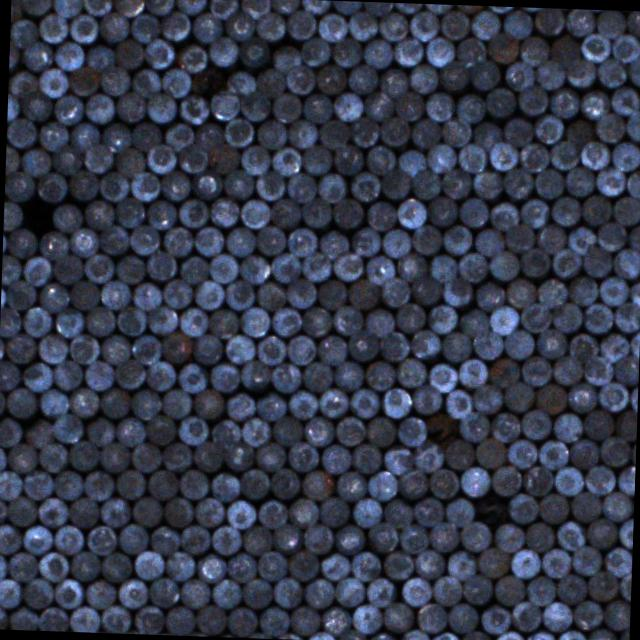tool: (557, 106, 603, 152), (18, 38, 54, 72), (548, 30, 582, 66), (299, 468, 335, 501), (81, 576, 118, 608), (68, 548, 102, 582), (116, 520, 150, 554), (207, 468, 241, 502), (4, 385, 38, 419), (346, 276, 380, 310), (226, 603, 260, 636), (132, 548, 165, 582), (319, 548, 352, 582), (332, 521, 366, 554), (319, 494, 352, 528), (82, 468, 115, 502), (506, 490, 539, 524), (470, 328, 504, 361), (83, 304, 116, 338), (284, 225, 318, 258), (239, 196, 272, 230), (363, 575, 398, 607), (491, 572, 526, 604), (144, 467, 179, 499), (129, 439, 161, 474), (362, 253, 397, 285), (362, 198, 397, 230), (252, 168, 287, 200), (165, 550, 198, 583), (253, 440, 286, 473), (349, 441, 382, 474), (254, 388, 287, 421), (458, 465, 491, 498), (393, 300, 426, 333), (144, 197, 177, 230), (415, 600, 447, 634), (100, 550, 132, 584), (286, 548, 320, 580), (84, 524, 118, 556), (179, 522, 211, 556), (365, 521, 399, 553), (35, 494, 67, 528), (64, 496, 98, 528), (98, 494, 130, 528), (130, 494, 162, 528), (223, 497, 257, 529), (380, 496, 414, 528), (366, 468, 398, 502), (96, 440, 130, 472), (286, 440, 320, 472), (380, 444, 414, 476), (68, 384, 100, 418), (98, 384, 130, 418), (130, 386, 162, 420), (190, 387, 224, 419), (445, 546, 477, 580), (584, 517, 618, 549), (520, 464, 554, 496), (146, 304, 180, 336), (178, 304, 210, 338), (268, 304, 302, 336), (240, 250, 272, 284), (396, 250, 430, 282), (330, 198, 364, 230), (395, 196, 427, 230), (222, 166, 254, 200), (82, 140, 114, 174), (238, 144, 272, 176), (582, 300, 614, 334), (472, 278, 506, 310), (518, 246, 550, 280), (486, 200, 520, 232), (548, 194, 582, 226), (52, 38, 84, 72), (174, 41, 208, 73), (190, 10, 224, 42), (486, 30, 518, 64), (254, 118, 289, 149), (316, 228, 352, 258), (192, 496, 225, 528), (256, 497, 288, 530), (335, 469, 367, 502), (160, 440, 193, 472), (222, 439, 254, 472), (318, 442, 351, 474), (82, 414, 115, 446), (82, 359, 115, 391), (176, 360, 209, 392), (36, 331, 69, 363), (97, 332, 130, 364), (346, 328, 378, 361), (458, 520, 491, 552), (537, 492, 570, 524), (411, 383, 444, 415), (361, 306, 394, 338), (223, 277, 255, 310), (222, 224, 255, 256), (208, 194, 240, 227), (35, 171, 68, 203), (159, 169, 191, 202), (190, 168, 223, 200), (379, 168, 412, 200), (143, 142, 176, 174), (21, 89, 54, 121), (82, 92, 115, 124), (377, 64, 410, 96), (458, 305, 490, 338), (550, 246, 583, 278), (456, 195, 488, 228), (533, 166, 566, 198), (143, 37, 175, 70), (237, 35, 270, 67), (361, 36, 394, 68), (424, 34, 456, 67), (408, 9, 440, 42), (502, 7, 535, 39), (586, 569, 620, 600), (146, 524, 180, 555), (270, 414, 304, 445), (413, 440, 444, 474), (96, 11, 130, 42), (18, 360, 53, 390), (329, 250, 364, 280), (564, 332, 600, 361), (258, 603, 290, 635), (22, 576, 54, 608), (240, 576, 272, 608), (302, 576, 334, 608), (399, 574, 431, 606), (509, 599, 541, 631), (430, 574, 462, 606), (554, 572, 586, 604), (36, 550, 68, 582), (196, 552, 228, 584), (382, 549, 414, 581), (21, 524, 53, 556), (210, 524, 242, 556), (240, 523, 272, 555), (302, 523, 334, 555), (162, 496, 194, 528), (288, 496, 320, 528), (21, 469, 53, 501), (52, 468, 84, 500), (114, 468, 146, 500), (178, 466, 210, 498), (66, 439, 98, 471), (22, 416, 54, 448), (144, 414, 176, 446), (209, 416, 241, 448), (303, 414, 335, 446), (364, 415, 396, 447), (224, 389, 256, 421), (286, 388, 318, 420), (317, 386, 349, 418), (380, 386, 412, 418), (270, 362, 302, 394), (363, 358, 395, 390), (130, 332, 162, 364), (477, 546, 509, 578), (428, 520, 460, 552), (524, 520, 556, 552), (600, 489, 632, 521), (443, 438, 475, 470), (474, 436, 506, 468), (536, 438, 568, 470), (598, 434, 630, 466), (458, 410, 490, 442), (534, 381, 566, 413), (520, 354, 552, 386), (238, 304, 270, 336), (330, 303, 362, 335), (161, 276, 193, 308), (254, 278, 286, 310), (271, 251, 303, 283), (162, 224, 194, 256), (350, 224, 382, 256), (112, 196, 144, 228), (176, 196, 208, 228), (300, 196, 332, 228), (67, 169, 99, 201), (348, 169, 380, 201), (410, 168, 442, 200), (112, 144, 144, 176), (332, 143, 364, 175), (52, 92, 84, 124), (238, 89, 270, 121), (36, 66, 68, 98), (550, 300, 582, 332), (536, 276, 568, 308), (582, 246, 614, 278), (595, 220, 627, 252), (580, 194, 612, 226), (441, 167, 473, 199), (453, 92, 485, 124), (484, 84, 516, 116), (595, 56, 627, 88), (270, 42, 302, 74), (330, 36, 362, 68), (393, 34, 425, 66), (67, 12, 99, 44), (284, 8, 316, 40), (438, 8, 470, 40), (269, 467, 300, 500), (413, 547, 444, 580), (583, 464, 616, 495), (37, 280, 70, 311), (83, 197, 114, 230), (427, 194, 458, 227), (21, 144, 52, 177), (489, 303, 520, 336), (473, 227, 506, 258), (132, 604, 166, 634), (352, 494, 382, 528), (510, 546, 540, 580), (570, 488, 600, 522), (596, 380, 630, 410), (486, 356, 520, 386), (408, 274, 442, 304), (314, 62, 348, 92), (610, 137, 640, 171), (315, 11, 349, 41), (163, 604, 194, 636), (351, 602, 383, 633), (382, 601, 414, 632), (118, 576, 149, 608), (210, 577, 242, 608), (460, 572, 491, 604), (524, 573, 555, 605), (351, 550, 382, 582), (270, 523, 302, 554), (396, 468, 428, 499), (7, 441, 38, 473), (397, 414, 428, 446), (50, 359, 82, 390), (302, 360, 334, 391), (332, 359, 363, 391), (4, 332, 36, 363), (67, 332, 99, 363), (254, 334, 286, 365), (540, 546, 571, 578), (572, 544, 603, 576), (492, 521, 524, 552), (490, 465, 522, 496), (550, 411, 582, 442), (582, 408, 614, 439), (503, 380, 535, 411), (456, 357, 488, 388), (582, 354, 614, 385), (502, 328, 534, 359), (115, 304, 146, 336), (4, 278, 35, 310), (51, 253, 83, 284), (114, 252, 146, 283), (146, 249, 177, 281), (6, 227, 37, 259), (193, 224, 224, 256), (269, 196, 300, 228), (316, 170, 347, 202), (364, 143, 396, 174), (6, 117, 38, 148), (379, 115, 411, 146), (115, 90, 146, 122), (302, 92, 334, 123), (392, 89, 424, 120), (423, 89, 455, 120), (100, 64, 132, 95), (284, 63, 316, 94), (347, 63, 379, 94), (438, 61, 470, 92), (520, 301, 552, 332), (442, 275, 473, 307), (567, 274, 598, 306), (456, 251, 488, 282), (488, 249, 520, 280), (518, 196, 550, 227), (472, 168, 504, 199), (564, 165, 596, 196), (532, 113, 564, 144), (594, 112, 626, 143), (516, 84, 548, 115), (546, 87, 578, 118), (608, 84, 640, 115), (128, 12, 159, 44), (519, 34, 550, 66), (288, 604, 321, 634), (446, 602, 479, 632), (240, 467, 270, 500), (193, 439, 223, 472), (51, 412, 84, 442), (348, 387, 381, 417), (208, 362, 241, 392), (555, 519, 585, 552), (567, 438, 600, 468), (302, 305, 332, 338), (192, 280, 225, 310), (37, 230, 70, 260), (177, 143, 210, 173), (38, 118, 68, 151), (440, 116, 473, 146), (145, 92, 178, 122), (66, 66, 99, 96), (408, 61, 438, 94), (157, 10, 190, 40), (222, 10, 255, 40), (376, 10, 409, 40), (334, 575, 365, 606), (21, 255, 52, 286), (51, 202, 82, 233), (270, 145, 301, 176), (271, 91, 302, 122), (426, 302, 457, 333), (84, 41, 115, 72), (299, 35, 330, 66), (254, 10, 285, 41), (194, 604, 226, 634), (178, 578, 210, 608), (479, 604, 509, 636), (540, 600, 572, 630), (600, 598, 630, 630), (226, 552, 258, 582), (6, 494, 36, 526), (113, 416, 145, 446), (176, 414, 208, 444), (162, 386, 192, 418), (114, 358, 146, 388), (191, 333, 223, 363), (224, 333, 256, 363), (285, 334, 317, 364), (316, 334, 348, 364), (602, 544, 632, 576), (412, 496, 444, 526), (428, 468, 460, 498), (504, 438, 536, 468), (489, 412, 521, 442), (520, 408, 552, 438), (564, 382, 596, 412), (427, 361, 457, 393), (551, 354, 583, 384), (439, 330, 471, 360), (534, 328, 566, 358), (208, 306, 238, 338), (100, 280, 132, 310), (316, 276, 346, 308), (82, 252, 114, 282), (177, 253, 209, 283), (412, 223, 442, 255), (442, 223, 472, 255), (300, 144, 332, 174), (100, 119, 132, 149), (287, 118, 319, 148), (409, 116, 441, 146), (179, 92, 209, 124), (208, 88, 238, 120), (362, 90, 394, 120), (505, 276, 537, 306), (598, 274, 628, 306), (506, 222, 536, 254), (536, 222, 568, 252), (488, 140, 518, 172), (579, 138, 611, 168), (469, 59, 501, 89), (534, 60, 566, 90), (564, 58, 596, 88), (564, 8, 596, 38), (22, 304, 51, 337), (100, 604, 131, 634), (321, 603, 352, 633), (148, 576, 179, 606), (272, 576, 303, 606), (240, 416, 271, 446), (162, 331, 192, 362), (410, 328, 441, 358), (54, 306, 84, 337), (131, 280, 162, 310), (209, 252, 240, 282), (128, 224, 159, 254), (256, 224, 286, 255), (98, 169, 128, 200), (128, 170, 159, 200), (51, 144, 82, 174), (209, 142, 240, 172), (318, 118, 349, 148), (428, 252, 458, 283), (503, 168, 534, 198), (471, 120, 502, 150), (502, 116, 533, 146), (578, 88, 608, 119), (580, 32, 611, 62), (471, 10, 502, 40), (8, 550, 37, 582), (471, 383, 503, 412), (5, 170, 34, 202), (222, 117, 254, 146), (454, 36, 486, 65), (52, 578, 82, 608), (571, 598, 601, 628), (52, 524, 82, 554), (398, 522, 428, 552), (39, 387, 69, 417), (144, 360, 174, 390), (396, 357, 426, 387), (380, 330, 410, 360), (444, 496, 474, 526), (600, 330, 630, 360), (70, 279, 100, 309), (286, 277, 316, 307), (380, 276, 410, 306), (302, 251, 332, 281), (68, 226, 98, 256), (98, 224, 128, 254), (382, 227, 412, 257), (286, 171, 316, 201), (426, 142, 456, 172), (70, 120, 100, 150), (348, 116, 378, 146), (334, 90, 364, 120), (130, 66, 160, 96), (160, 67, 190, 97), (566, 224, 596, 254), (595, 165, 625, 195), (504, 60, 534, 90), (38, 12, 68, 42), (348, 10, 378, 40), (163, 120, 194, 149), (611, 247, 640, 278), (611, 193, 640, 224), (115, 37, 144, 68), (68, 604, 100, 632), (224, 67, 256, 95), (258, 550, 287, 580), (38, 443, 68, 472), (335, 415, 365, 444), (240, 359, 270, 388), (396, 147, 426, 176), (132, 121, 162, 150), (255, 67, 285, 96), (458, 142, 487, 172), (518, 142, 548, 171), (548, 140, 578, 169), (610, 33, 640, 62), (38, 604, 68, 632), (8, 68, 38, 96), (193, 120, 223, 148), (208, 36, 238, 64), (596, 10, 626, 38), (612, 354, 639, 385), (613, 300, 640, 331), (554, 466, 582, 495), (443, 389, 472, 417), (7, 604, 38, 630), (534, 8, 565, 34), (613, 408, 637, 441), (10, 18, 38, 46), (0, 577, 23, 609), (0, 414, 23, 446), (0, 521, 21, 556), (0, 469, 22, 500), (0, 306, 21, 337), (1, 252, 21, 284), (238, 0, 269, 20), (0, 358, 19, 390), (615, 464, 635, 494), (3, 200, 23, 230), (111, 0, 145, 17), (209, 0, 239, 19), (5, 142, 21, 176), (174, 0, 206, 17), (49, 0, 82, 16), (624, 167, 640, 199), (586, 625, 619, 640), (618, 518, 633, 550), (82, 0, 112, 15), (626, 221, 640, 253), (269, 0, 301, 14), (331, 0, 362, 14), (626, 276, 640, 306), (626, 55, 640, 85), (20, 0, 50, 14), (143, 0, 173, 14), (625, 10, 640, 37), (556, 627, 587, 640), (7, 91, 20, 122), (361, 2, 392, 15), (398, 628, 431, 640), (523, 628, 556, 640), (302, 0, 330, 14), (627, 111, 640, 141), (493, 629, 525, 640), (429, 629, 459, 640), (459, 630, 491, 640), (10, 0, 22, 21), (0, 551, 7, 583), (0, 443, 7, 474), (0, 602, 8, 629), (0, 496, 6, 526)
tool_b: (462, 479, 522, 535), (414, 400, 472, 455), (191, 66, 226, 100)
void: (20, 196, 52, 236)
